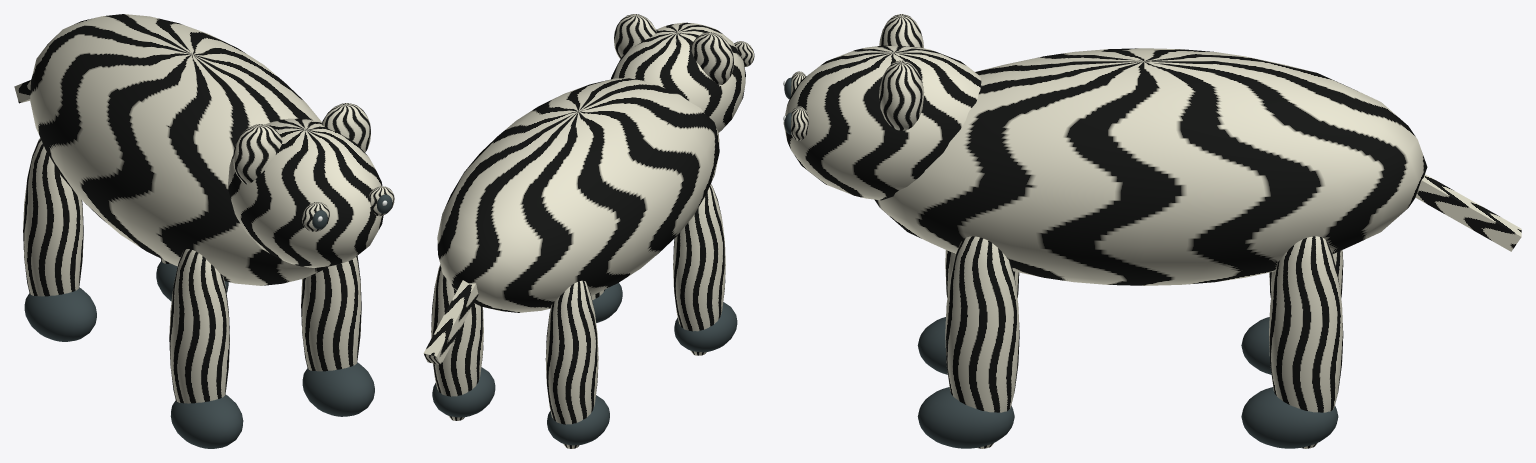
File: city-zebra.glb
The picture shows the model from 3 angles, left to right: view 1: azimuth 30°, elevation 25°; view 2: azimuth 150°, elevation 25°; view 3: azimuth 270°, elevation 25°; orthographic projection. The views are drawn at different scales.
Parts seen in each view (by area): view 1: Animal_zebra, Walk_FL, Walk_BL, Walk_FR, Walk_BR; view 2: Animal_zebra, Walk_BL, Walk_FL, Walk_BR, Walk_FR; view 3: Animal_zebra, Walk_FR, Walk_BR, Walk_FL, Walk_BL.
Part boxes in pixels (x1,y1,x2,y2): Animal_zebra: (14, 14, 394, 285); Walk_FL: (169, 249, 243, 448); Walk_BL: (23, 138, 96, 341); Walk_FR: (301, 256, 374, 416); Walk_BR: (156, 258, 228, 301); Animal_zebra: (423, 14, 754, 365); Walk_BL: (545, 280, 609, 448); Walk_FL: (673, 184, 737, 355); Walk_BR: (431, 264, 495, 420); Walk_FR: (591, 283, 622, 322); Animal_zebra: (783, 14, 1521, 285); Walk_FR: (917, 236, 1019, 448); Walk_BR: (1241, 236, 1343, 448); Walk_FL: (917, 250, 1019, 374); Walk_BL: (1241, 250, 1343, 374).
Bounding box in the file's own units: 1.6 × 2.55 × 4.56.
3 materials, 1 textured.
